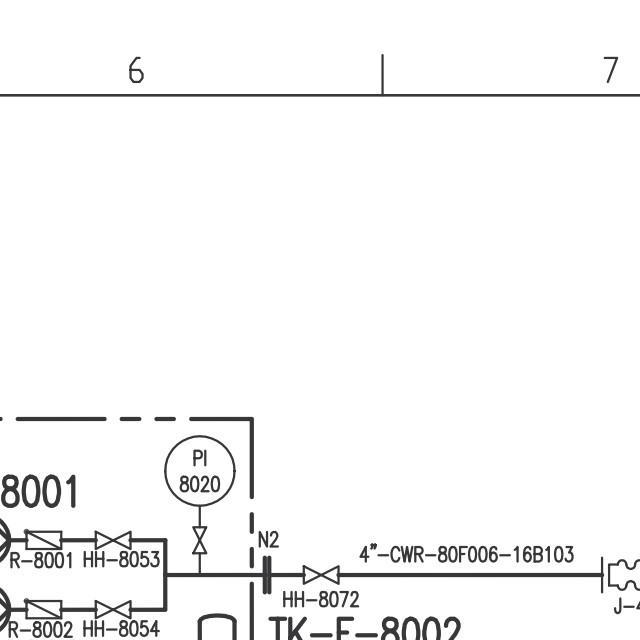CV2: (19, 528, 67, 554), (20, 596, 65, 623)
GV: (298, 562, 347, 586), (90, 529, 133, 551), (91, 597, 132, 618), (188, 525, 213, 559)
